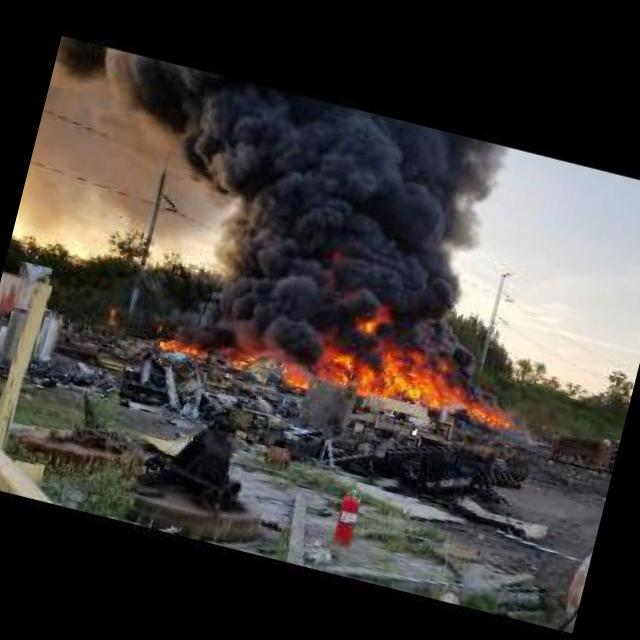fire: (134, 276, 536, 446), (343, 293, 398, 341), (107, 307, 120, 322)
smoke: (112, 57, 537, 366)
